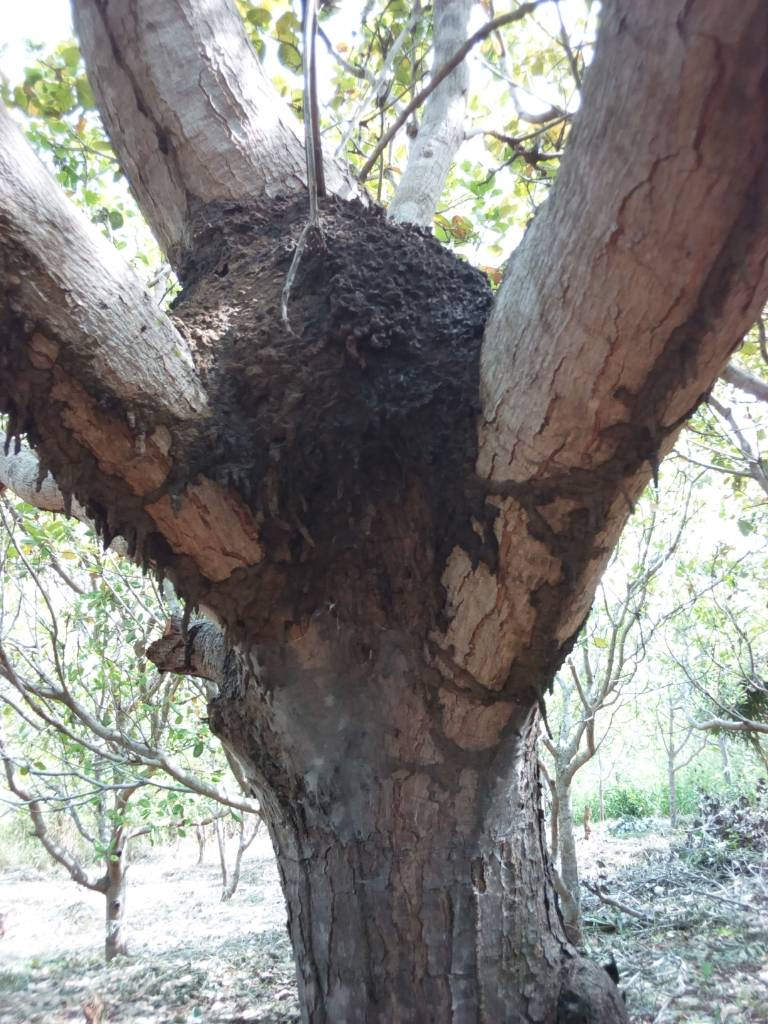Termites: (196, 192, 486, 555), (1, 239, 183, 591), (530, 460, 591, 678)
